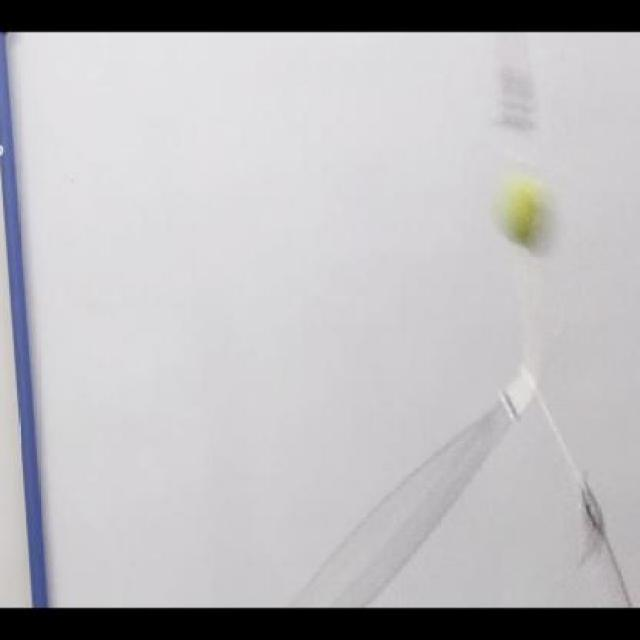baseball: (494, 163, 558, 252)
